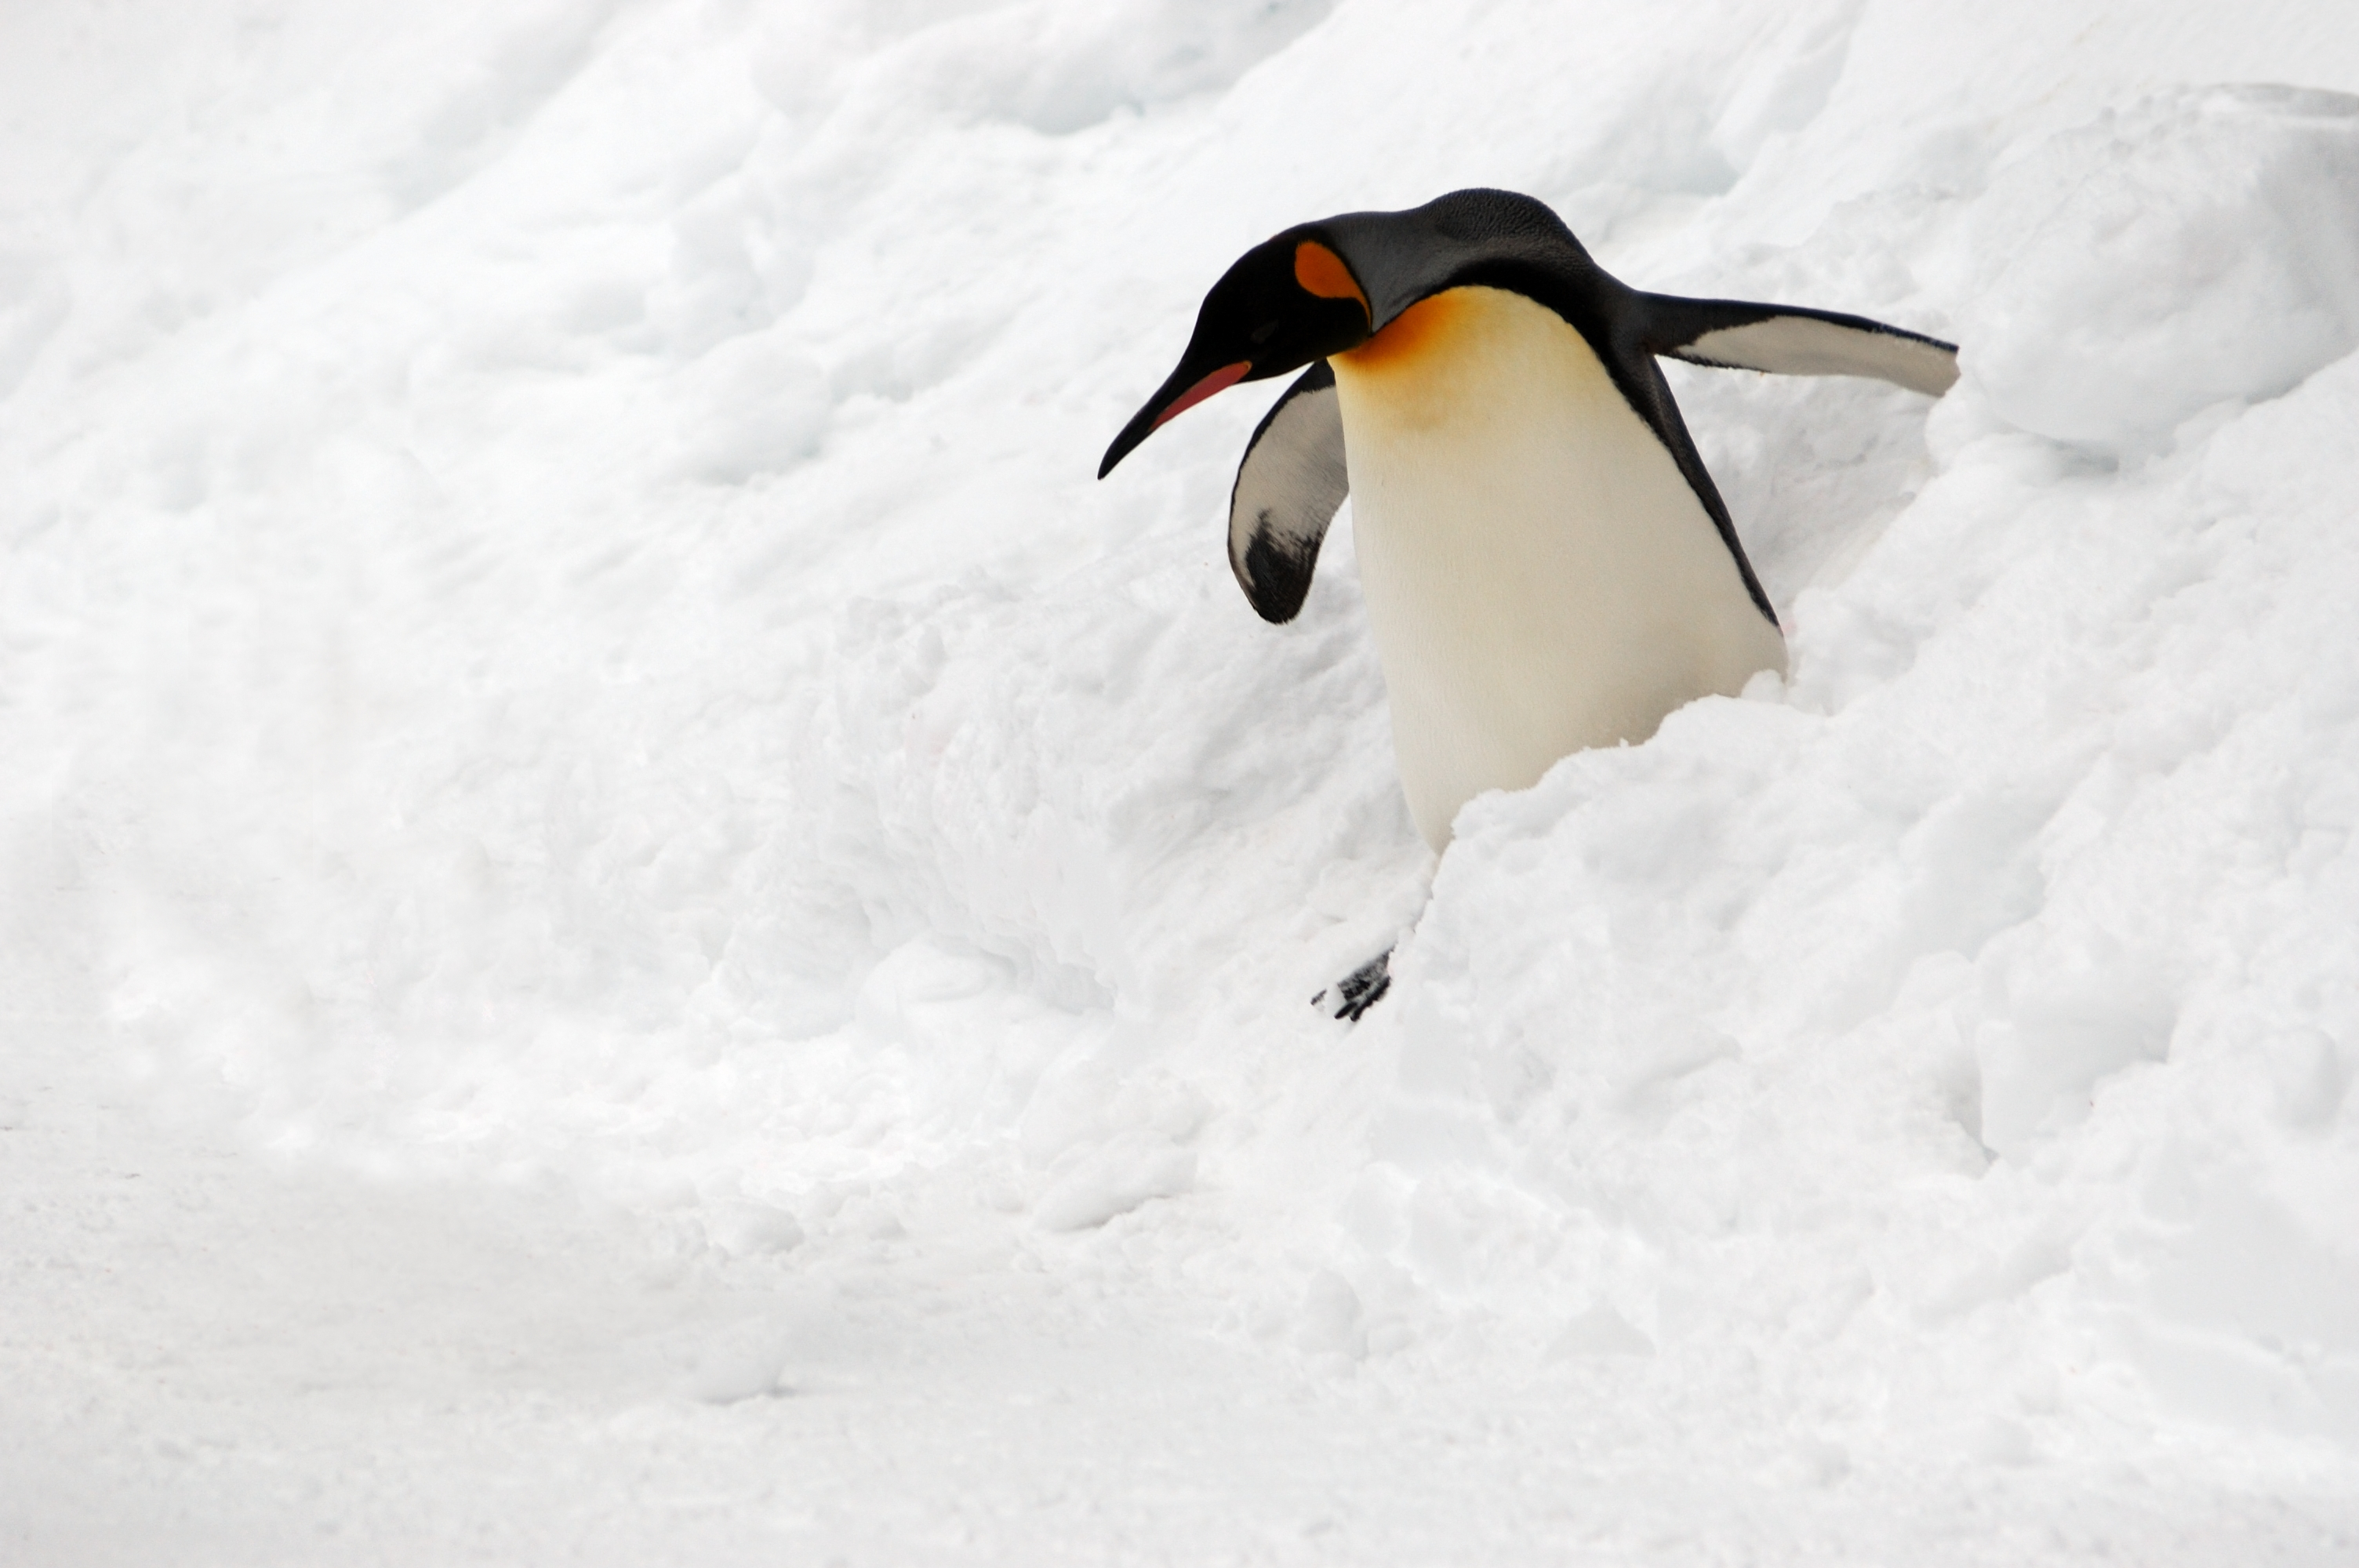penguin: (1087, 177, 1953, 1036)
